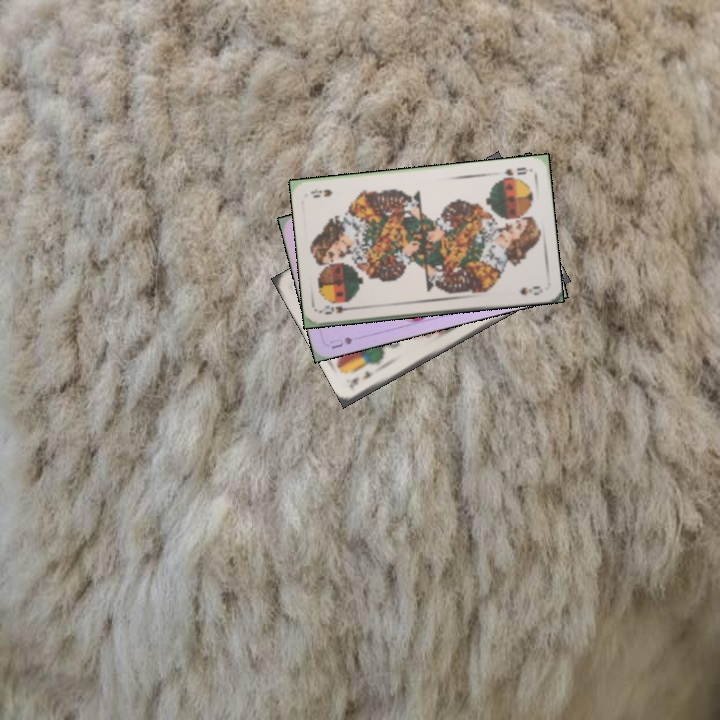EK: (346, 367, 375, 388)
SO: (317, 301, 358, 317), (499, 163, 533, 182)
SU: (326, 333, 355, 352)
